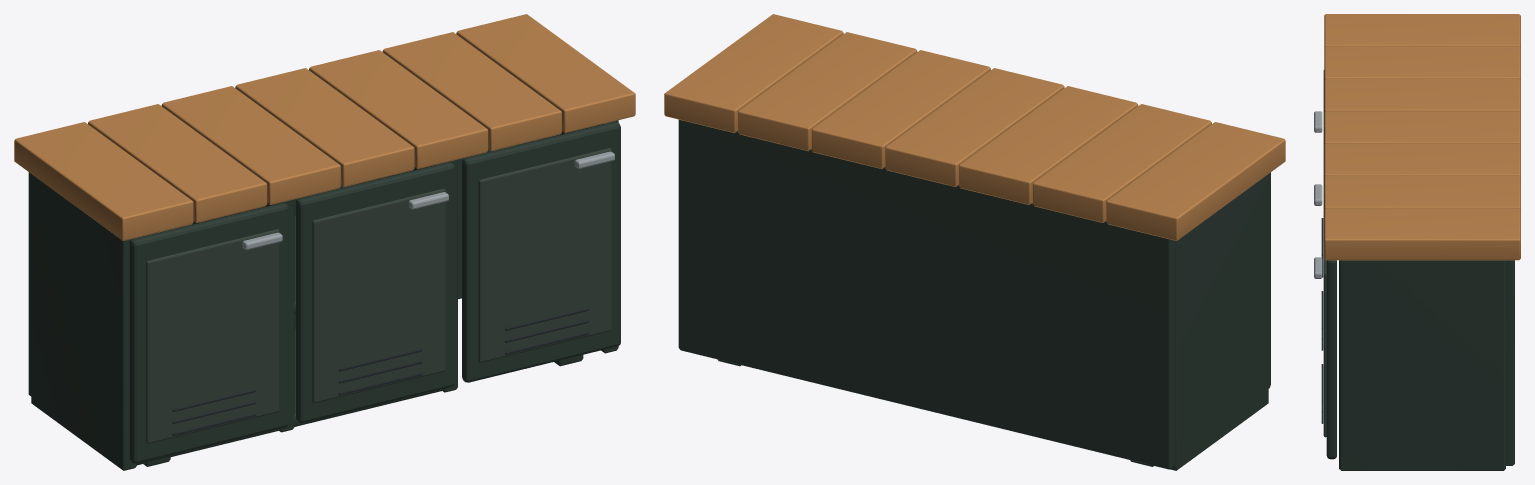
File: galley_counter.fbx
3 views of the same model, side by side, from view 1: azimuth 30°, elevation 25°; view 2: azimuth 150°, elevation 25°; view 3: azimuth 270°, elevation 25° (orthographic). The views are drawn at different scales.
Parts seen in each view (by area): view 1: galley_counter; view 2: galley_counter; view 3: galley_counter.
Part boxes in pixels (<box>): galley_counter: <box>14,14,635,470</box>; galley_counter: <box>664,14,1285,470</box>; galley_counter: <box>1314,14,1520,470</box>.
Bounding box in the file's own units: 1.8 × 0.9 × 0.694.
